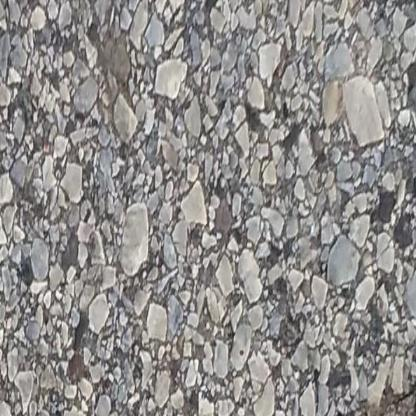Cracks: (358, 366, 416, 416)
